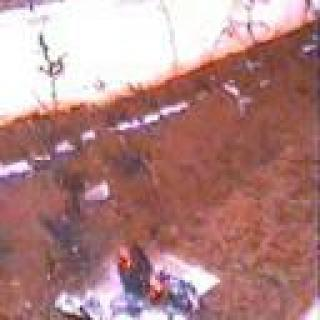fire: (110, 234, 166, 312)
